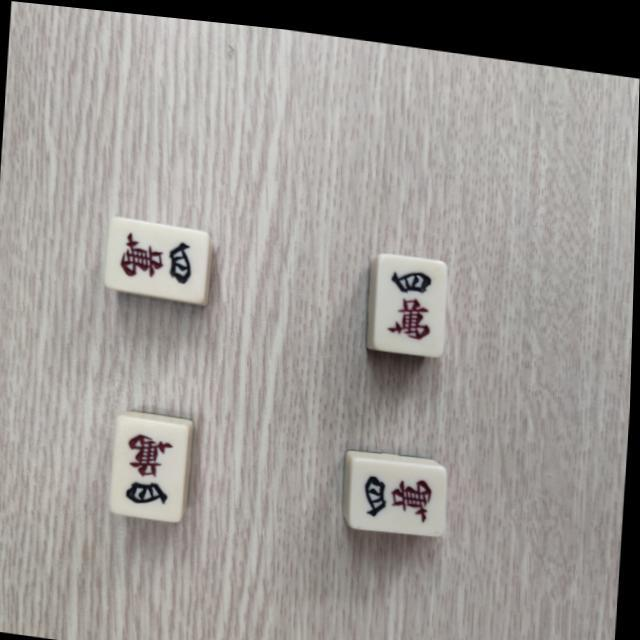sc4: (112, 221, 202, 289), (118, 418, 182, 509), (360, 454, 443, 523), (382, 250, 443, 337)
